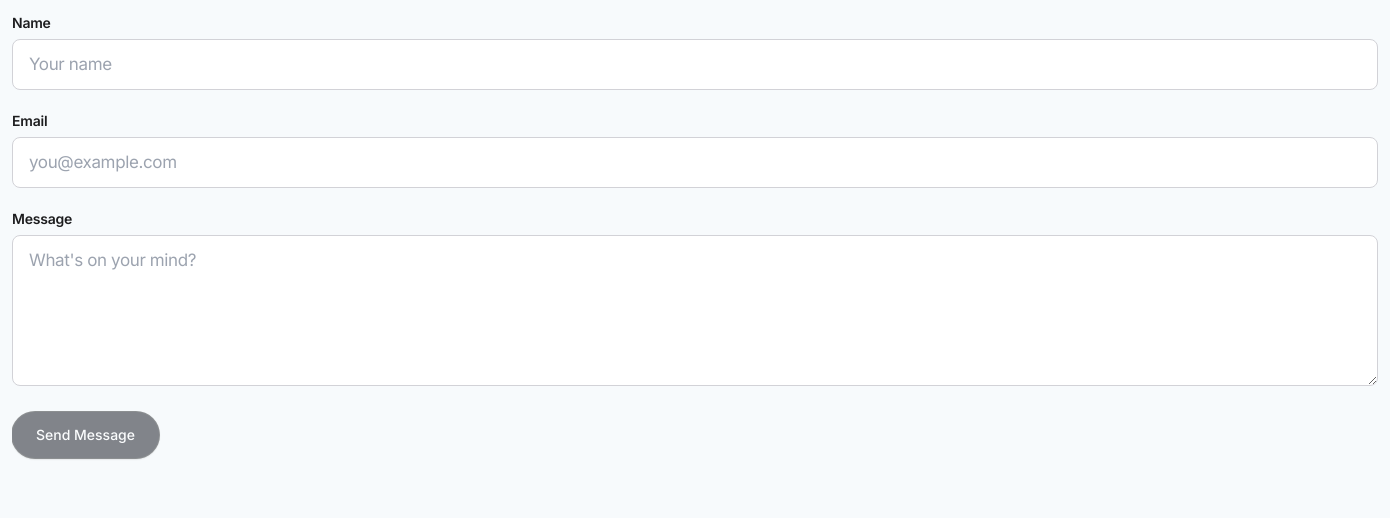
Test case: ContactForm › shows error message when submit fails
Type "Allen" into the field labelled "Name" at (695, 64), box x1=12 y1=39 x2=1378 y2=90
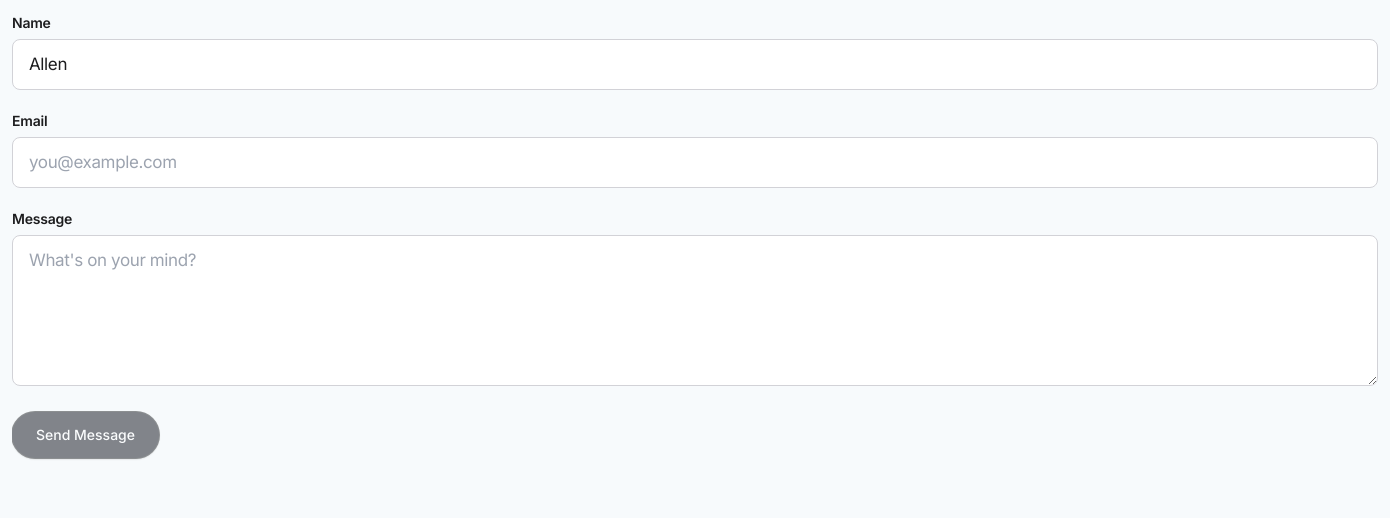
Type "allen@test.com" into the field labelled "Email" at (695, 162), box x1=12 y1=137 x2=1378 y2=188
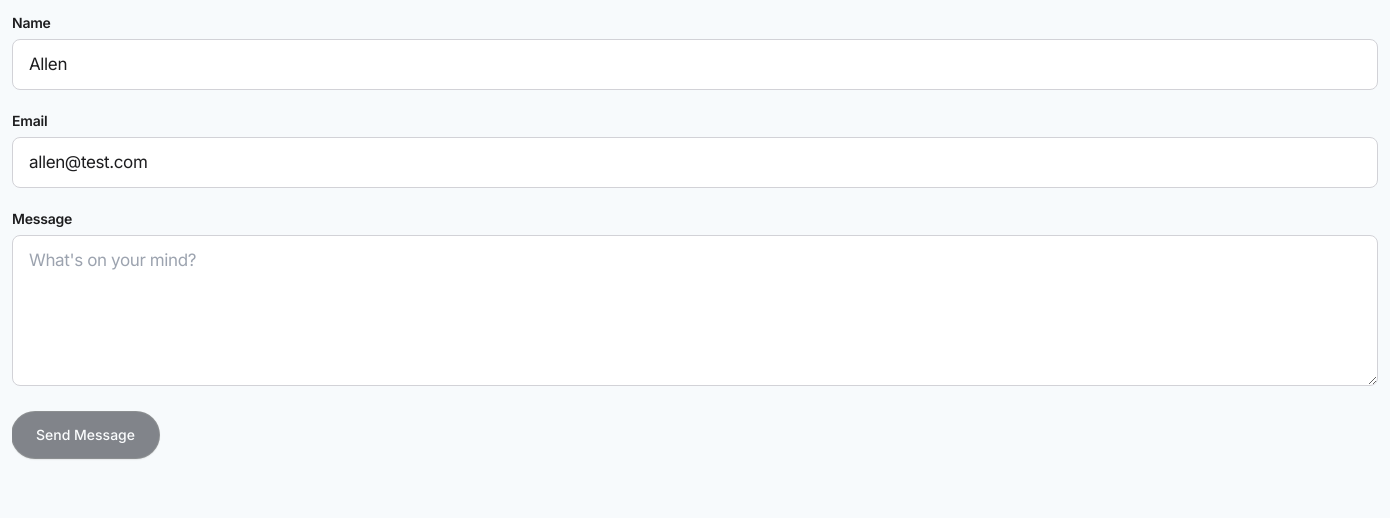
Type "Hello" into the text box labelled "Message" at (695, 310), box x1=12 y1=235 x2=1378 y2=386
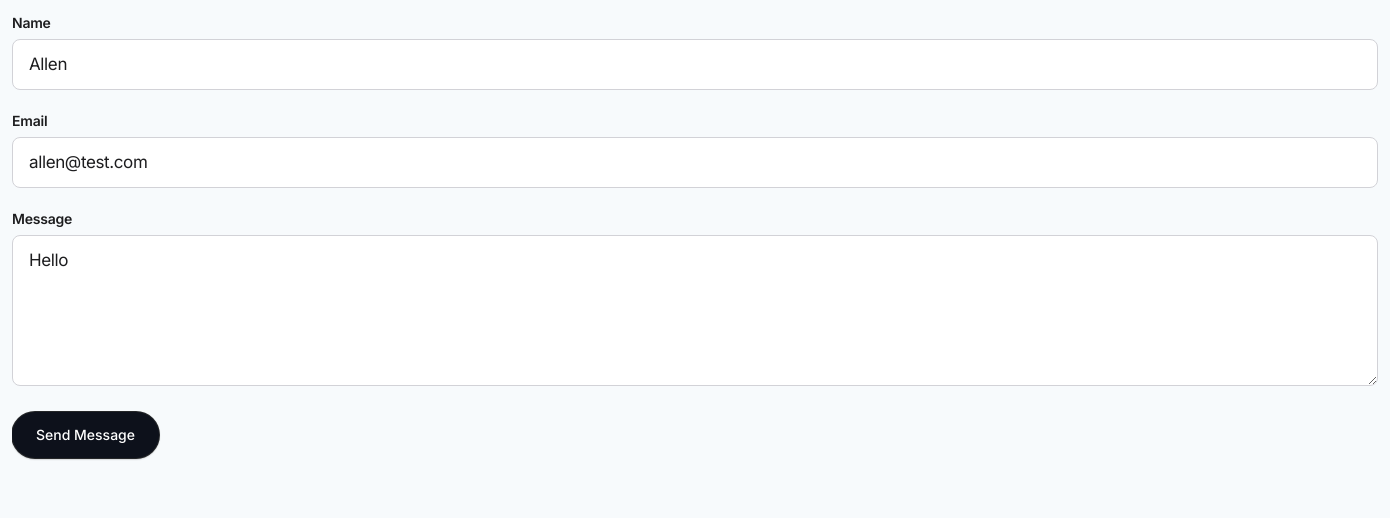
Click the button "Send Message" at (86, 435), box x1=12 y1=412 x2=159 y2=458
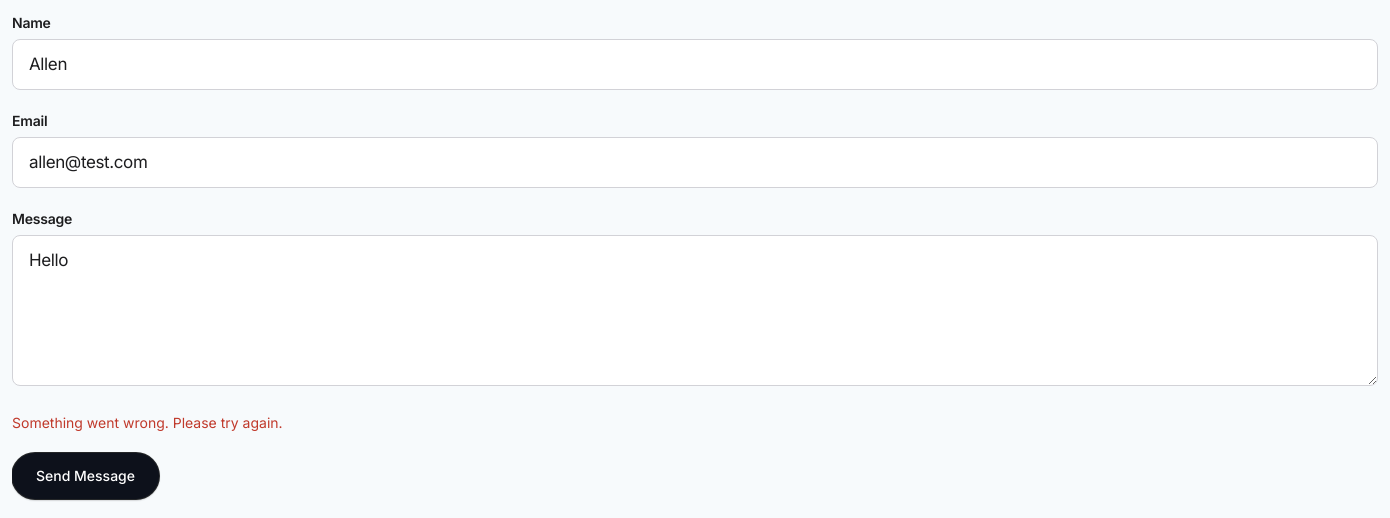
Now the message "Something went wrong. Please try again." is shown, box x1=12 y1=414 x2=283 y2=431
